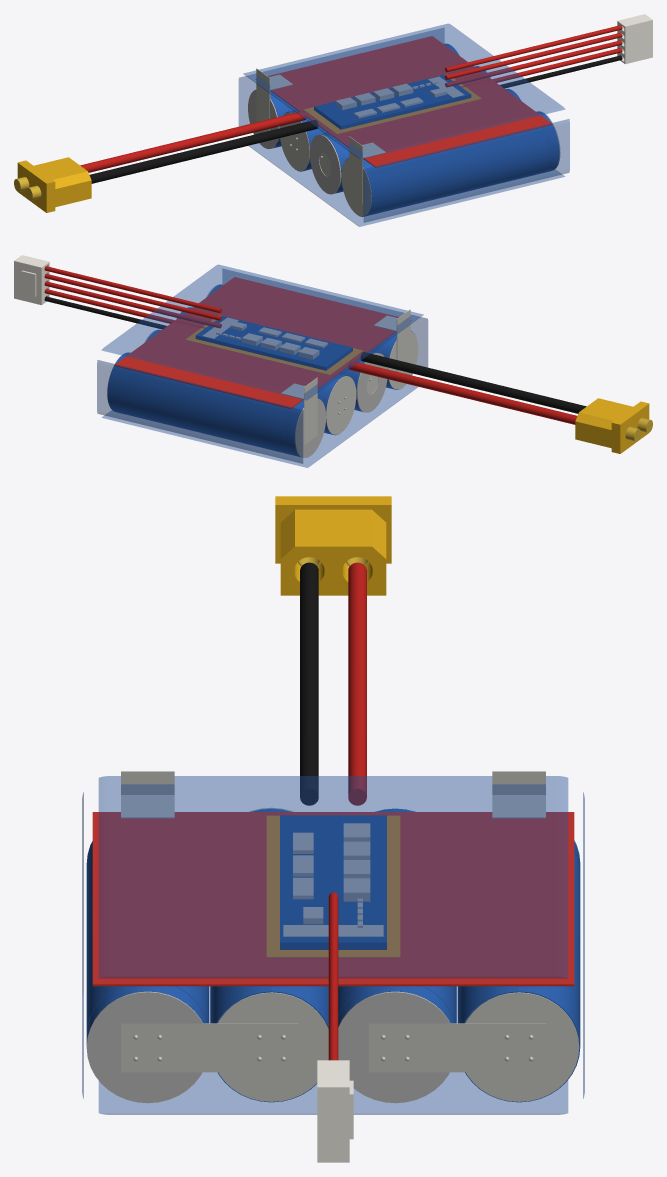
File: battery-4s1p-pack.glb
3 renders of one model, top to bottom at view 1: azimuth 30°, elevation 25°; view 2: azimuth 150°, elevation 25°; view 3: azimuth 270°, elevation 25°, orthographic. The views are drawn at different scales.
Parts seen in each view (by area): view 1: shrink_wrap, barley_paper, wrap (×3), xt60_housing, bms_pcb, lead_neg, lead_pos, fish_paper, can (×2), xh_housing, bms_parts, tab_bneg (+8 smaller); view 2: shrink_wrap, barley_paper, wrap (×3), xt60_housing, bms_pcb, lead_pos, lead_neg, can (×2), fish_paper, xh_housing, bms_parts, tab_bpos (+8 smaller); view 3: shrink_wrap, barley_paper, fish_paper, can (×2), wrap (×4), xt60_housing, bms_pcb, strip_p1, strip_p3, kapton, lead_neg, lead_pos (+6 smaller).
Boxes of the visible parts, x1,y1,x2,y2 form: shrink_wrap: (238, 23, 569, 226); barley_paper: (255, 36, 552, 167); wrap (×3): (270, 43, 559, 216); xt60_housing: (17, 157, 91, 212); bms_pcb: (314, 75, 471, 129); lead_neg: (89, 120, 318, 183); lead_pos: (80, 111, 306, 172); fish_paper: (248, 66, 560, 194); can (×2): (279, 112, 371, 216); xh_housing: (617, 14, 652, 64); bms_parts: (335, 81, 446, 118); tab_bneg: (349, 136, 385, 204); shrink_wrap: (97, 264, 428, 467); barley_paper: (114, 277, 411, 408); wrap (×3): (107, 284, 414, 456); xt60_housing: (575, 398, 649, 453); bms_pcb: (195, 316, 352, 370); lead_pos: (348, 361, 577, 424); lead_neg: (360, 352, 586, 413); can (×2): (326, 331, 418, 434); fish_paper: (144, 284, 387, 457); xh_housing: (14, 255, 49, 305); bms_parts: (216, 322, 328, 359); tab_bpos: (281, 377, 317, 444); shrink_wrap: (82, 776, 584, 1114); barley_paper: (92, 812, 574, 986); fish_paper: (86, 807, 580, 1103); can (×2): (218, 992, 579, 1101); wrap (×4): (86, 808, 580, 1102); xt60_housing: (275, 496, 391, 595); bms_pcb: (280, 815, 386, 949); strip_p1: (121, 1023, 298, 1072); strip_p3: (368, 1023, 545, 1072); kapton: (266, 815, 400, 957); lead_neg: (300, 562, 318, 805); lead_pos: (348, 562, 366, 805).
Bounding box in the file's own units: 0.216 × 0.0274 × 0.0752.
